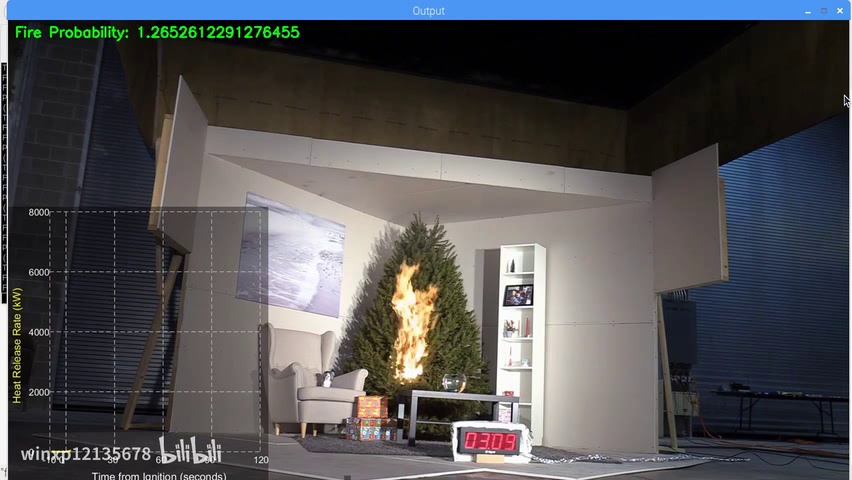fire: (385, 260, 438, 388)
